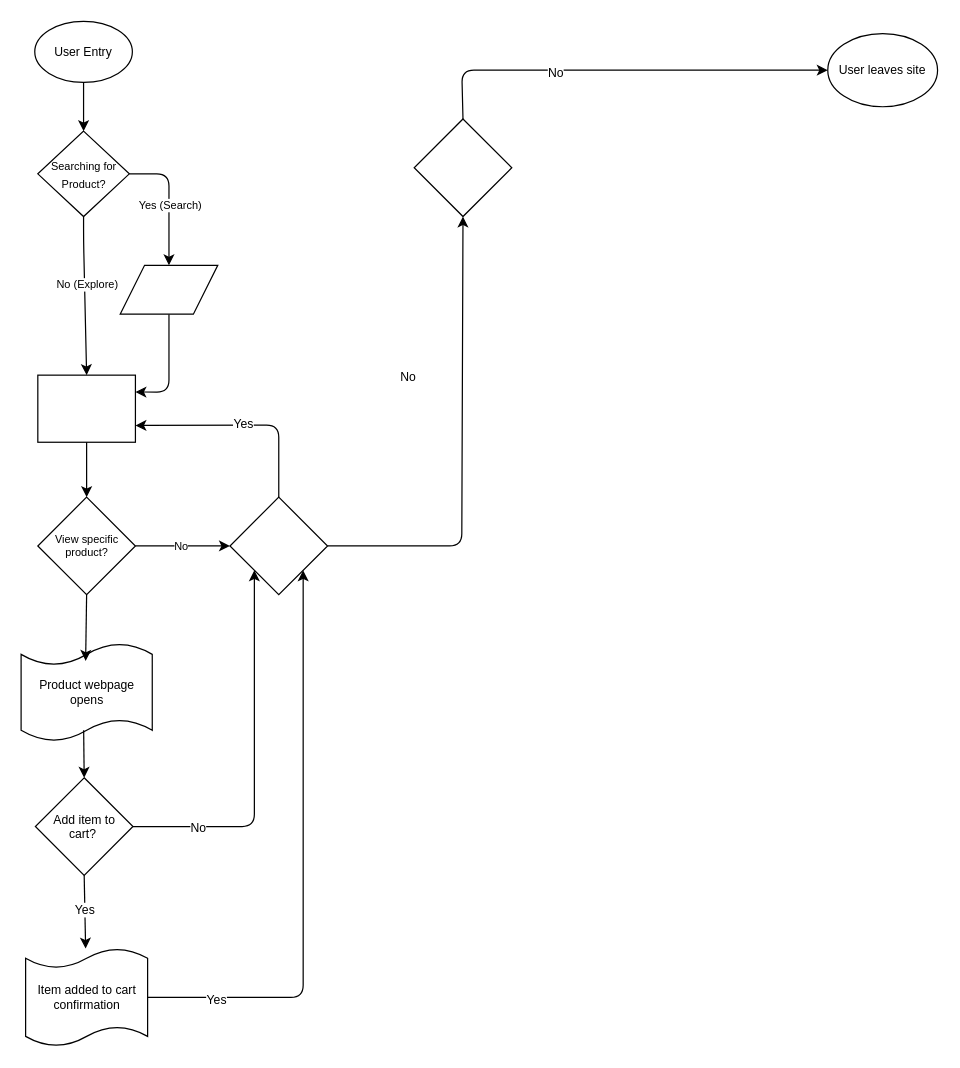
This 960x1068 diagram has some shape labels left out. The centre of each missing label's shape, as x and y in pixels:
"Checkout?" goes at point (462, 167).
"Continue Shopping?" goes at point (278, 545).
"Search Input" goes at point (168, 289).
"User looks over products" goes at point (86, 408).
